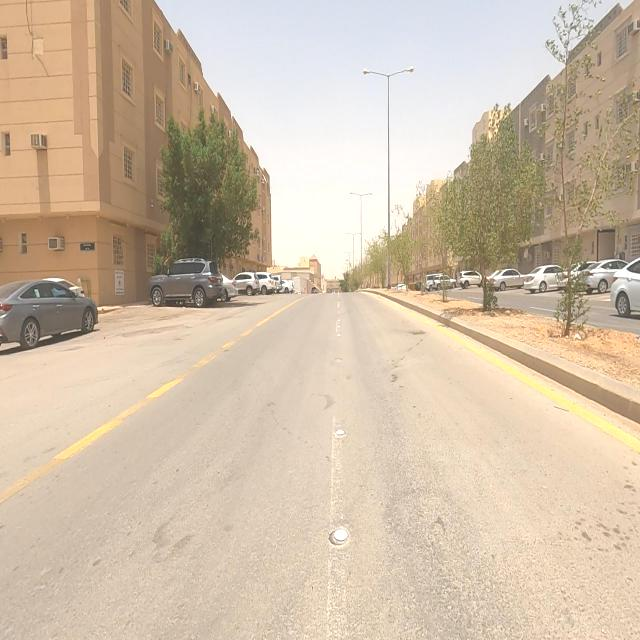debris: (560, 306, 594, 366)
